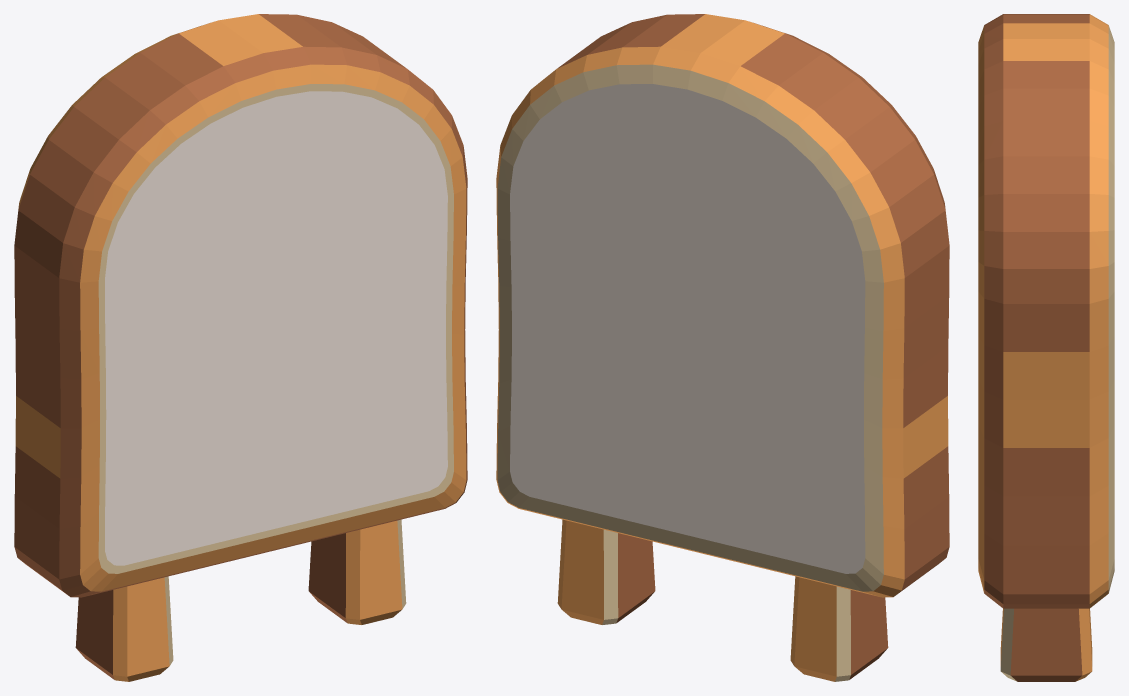
File: linkSign.glb
The picture shows the model from 3 angles, left to right: view 1: azimuth 30°, elevation 25°; view 2: azimuth 150°, elevation 25°; view 3: azimuth 270°, elevation 25°; orthographic projection. The views are drawn at different scales.
Parts seen in each view (by area): view 1: linkSign; view 2: linkSign; view 3: linkSign.
Boxes of the visible parts, x1,y1,x2,y2 form: linkSign: (14, 14, 467, 681); linkSign: (496, 14, 949, 681); linkSign: (978, 14, 1114, 681).
Size of the model in its own units: 1 by 1.4 by 0.3.
Materials: 1 (1 with a texture image).
